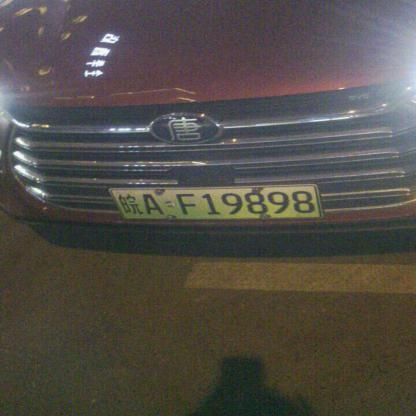lp: (112, 186, 320, 218)
